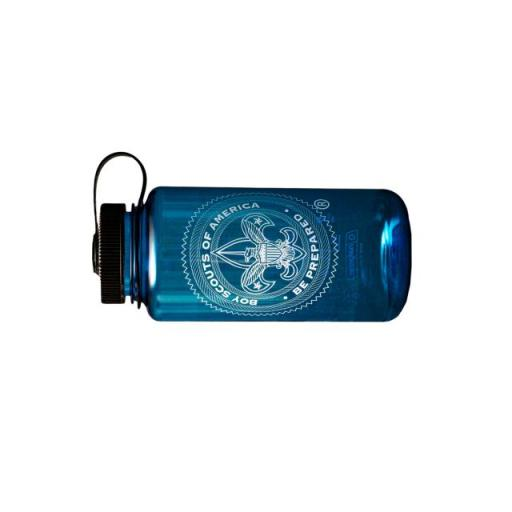bottle: (88, 148, 414, 324)
